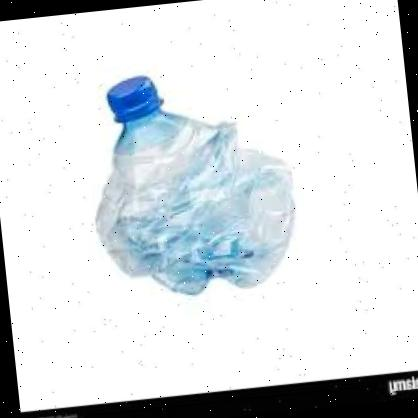bottle: (70, 45, 314, 308)
cap: (97, 70, 166, 128)
